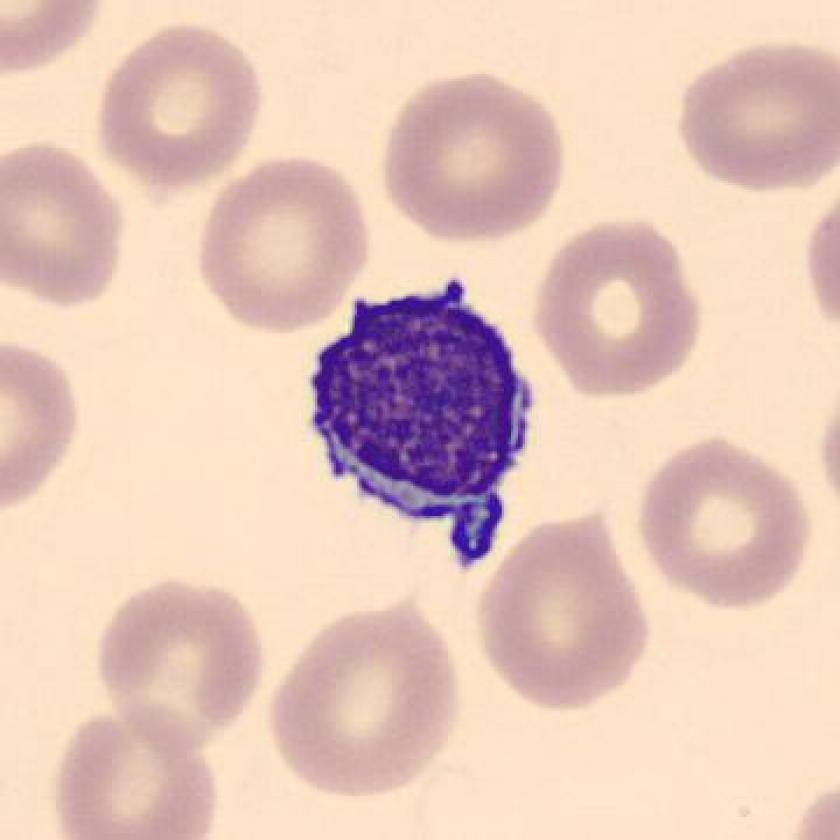lymphocyte: (295, 258, 547, 582)
